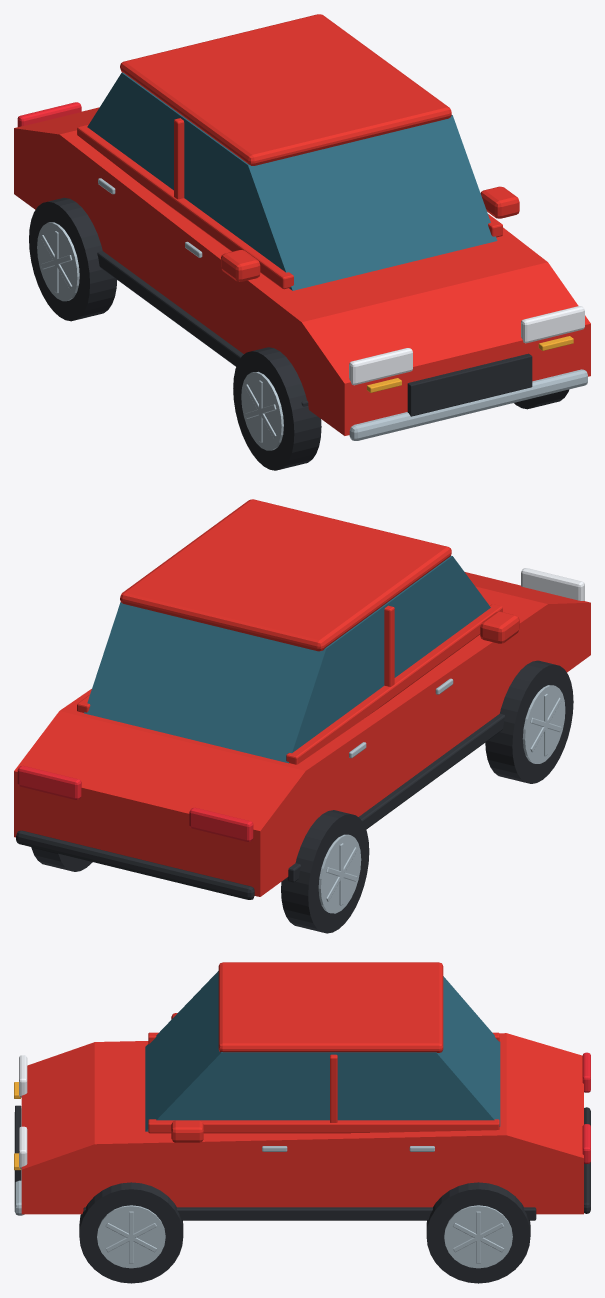
The model's file is taiwan-car-red.glb.
The picture shows the model from 3 angles, top to bottom: view 1: azimuth 30°, elevation 25°; view 2: azimuth 150°, elevation 25°; view 3: azimuth 270°, elevation 25°; orthographic projection. The views are drawn at different scales.
Parts seen in each view (by area): view 1: Sculpted compact crossover, Cabin, Roof, Rubber tyre.002, Rubber tyre, Front grille, Lower window rail, Front bumper, Rocker trim, Wheel hub.002, Wheel hub, Headlamp.001 (+5 smaller); view 2: Sculpted compact crossover, Cabin, Roof, Rubber tyre, Rubber tyre.002, Lower window rail, Rear bumper, Rocker trim, Wheel hub, Wheel hub.002, Tail lamp, Tail lamp.001 (+4 smaller); view 3: Sculpted compact crossover, Cabin, Roof, Rubber tyre.003, Rubber tyre.001, Lower window rail.001, Rocker trim.001, Wheel hub.003, Wheel hub.001, Side mirror.001, Window divider.001, Rear bumper.
Part boxes in pixels (<box>): Sculpted compact crossover: <box>14,107,590,435</box>; Cabin: <box>87,72,497,290</box>; Roof: <box>120,14,451,165</box>; Rubber tyre.002: <box>233,347,321,470</box>; Rubber tyre: <box>29,197,116,321</box>; Front grille: <box>407,353,532,416</box>; Lower window rail: <box>77,125,293,289</box>; Front bumper: <box>349,369,587,440</box>; Rocker trim: <box>97,251,308,406</box>; Wheel hub.002: <box>241,371,283,450</box>; Wheel hub: <box>37,222,79,301</box>; Headlamp.001: <box>521,306,584,343</box>; Sculpted compact crossover: <box>14,572,590,896</box>; Cabin: <box>84,555,490,763</box>; Roof: <box>120,499,451,651</box>; Rubber tyre: <box>281,810,369,933</box>; Rubber tyre.002: <box>485,660,573,783</box>; Lower window rail: <box>286,604,502,764</box>; Rear bumper: <box>16,830,254,899</box>; Rocker trim: <box>287,714,504,882</box>; Wheel hub: <box>318,834,361,913</box>; Wheel hub.002: <box>522,685,565,763</box>; Tail lamp: <box>189,807,253,841</box>; Tail lamp.001: <box>17,765,81,799</box>; Sculpted compact crossover: <box>21,1033,583,1214</box>; Cabin: <box>145,971,500,1131</box>; Roof: <box>218,962,443,1052</box>; Rubber tyre.003: <box>79,1182,183,1283</box>; Rubber tyre.001: <box>426,1182,530,1283</box>; Lower window rail.001: <box>148,1119,499,1133</box>; Rocker trim.001: <box>83,1207,536,1220</box>; Wheel hub.003: <box>97,1205,165,1268</box>; Wheel hub.001: <box>444,1205,512,1268</box>; Side mirror.001: <box>171,1120,203,1142</box>; Window divider.001: <box>330,1054,337,1122</box>; Rear bumper: <box>584,1107,590,1213</box>.
Bounding box in the file's own units: 2 × 1.75 × 4.11.
